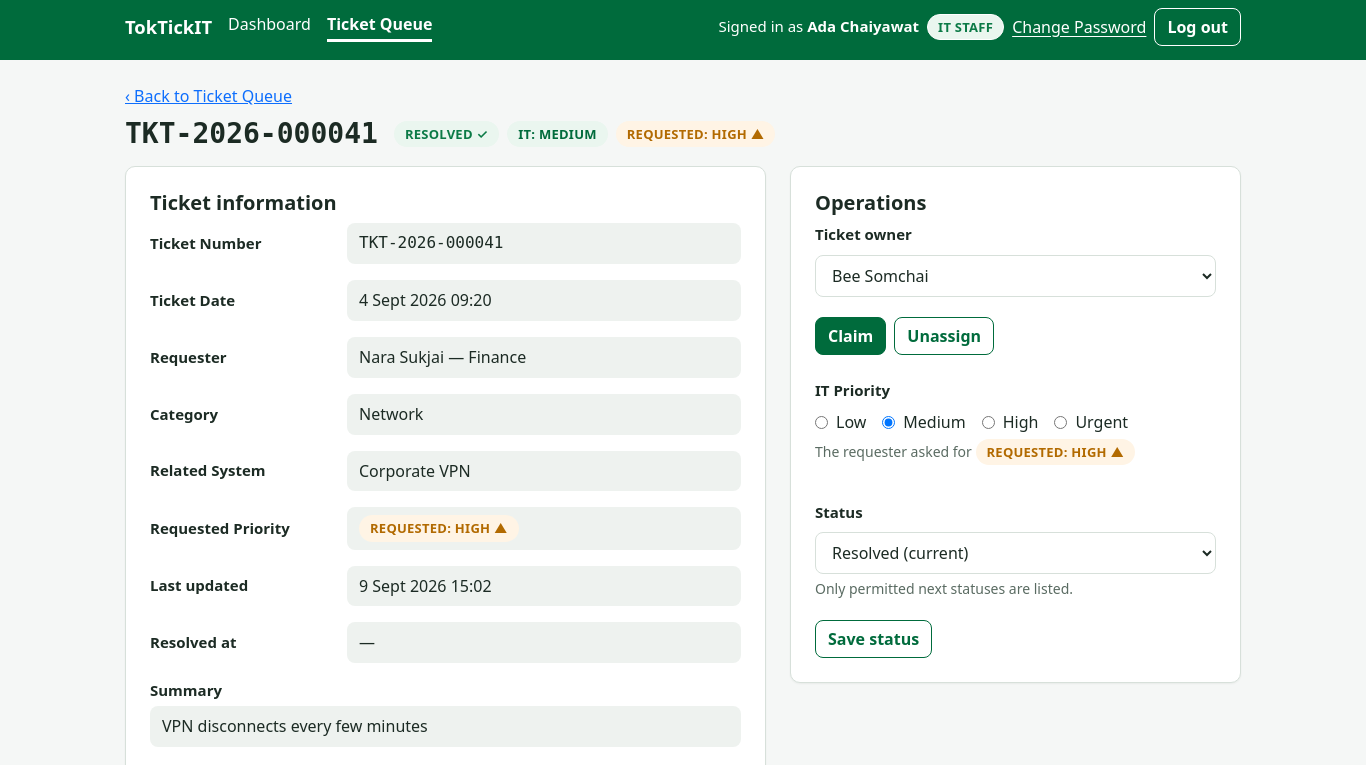
Test: UI-25 RESOLVED, CLOSED, and CANCELLED require confirmation (AC-44, BR-37) › RESOLVED → CLOSED: the dialog names the Ticket and the status; cancelling sends nothing
Select "Closed" in the dropdown labelled "Status" at (1016, 553), box [815,532,1216,574]
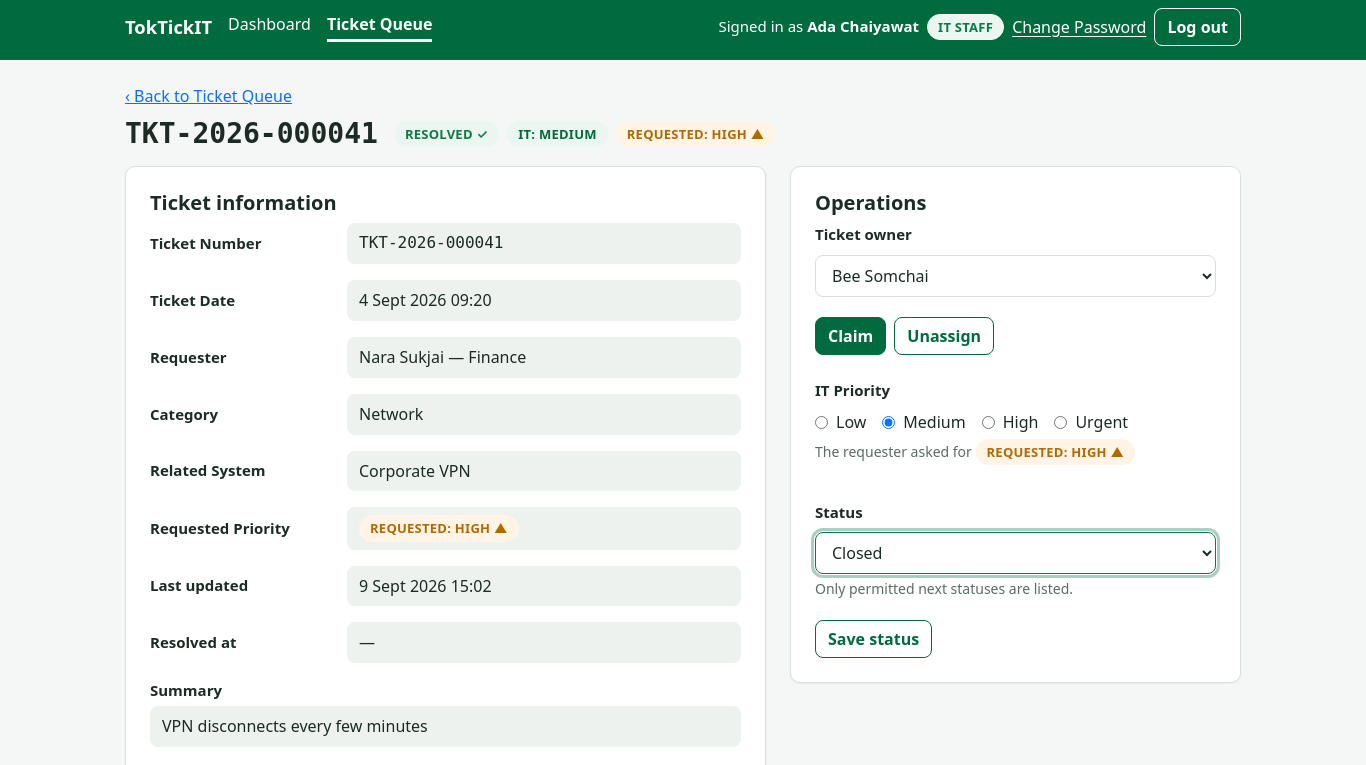
Click the button "Save status" at (874, 639), box [815,620,932,658]
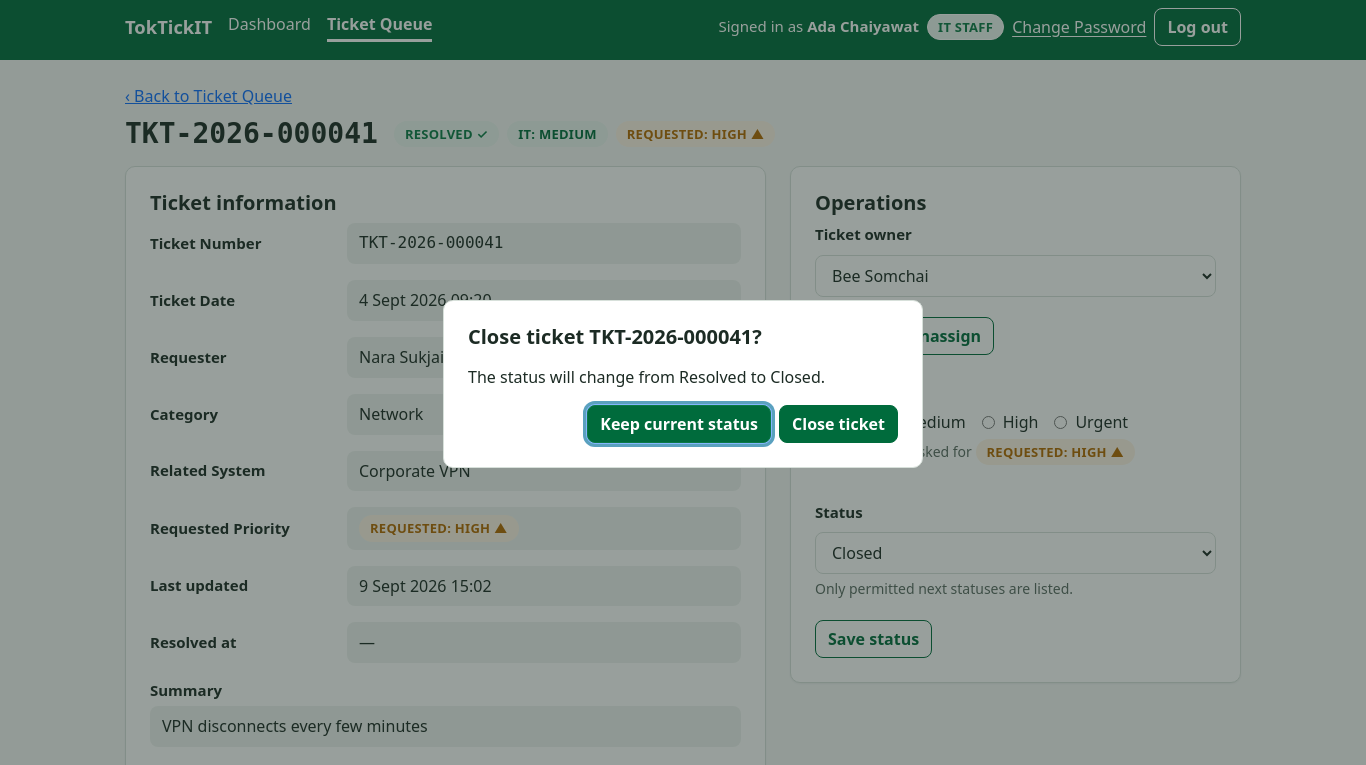
Expected: the dialog "Close ticket TKT-2026-000041?" shows "Closed", [770,366,821,388]
Click the button "Keep current status" at (679, 424), box [587,405,771,443]
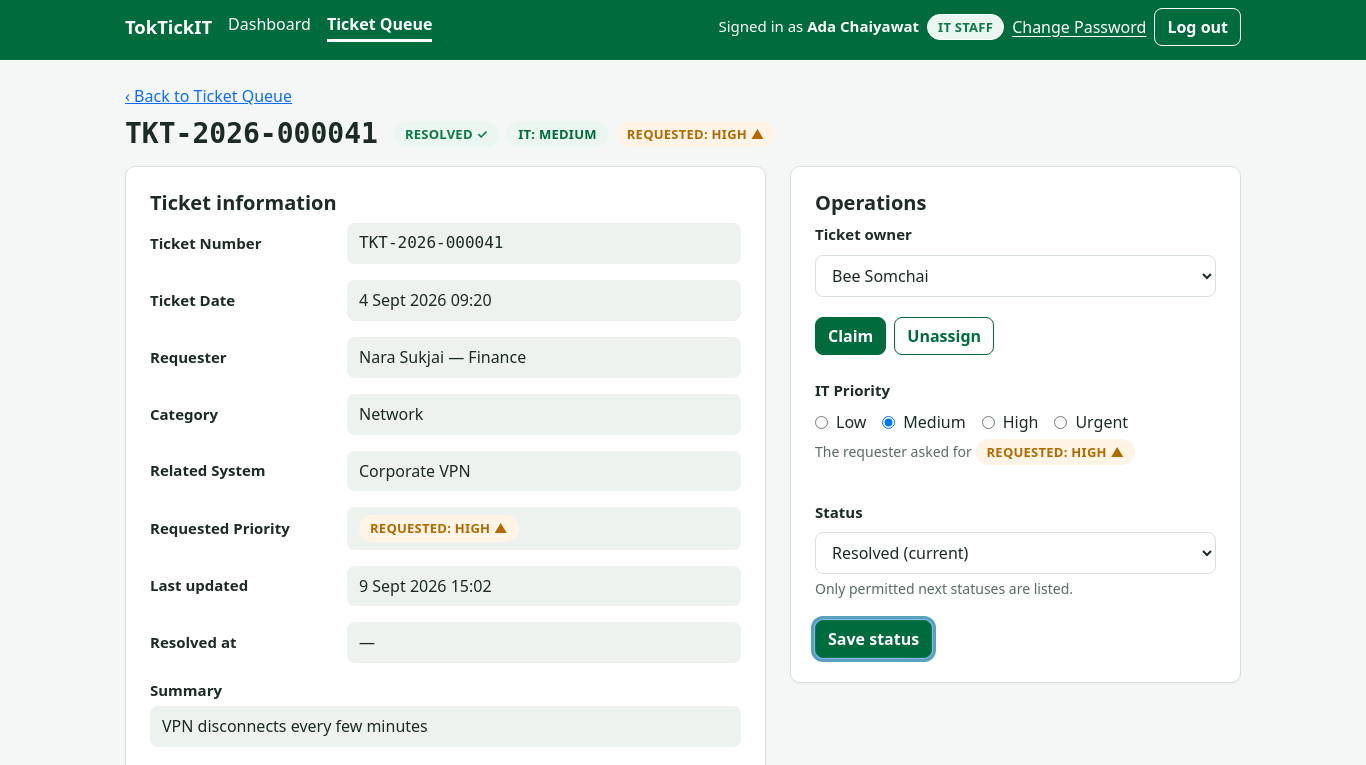
Expected: the button "Save status" is enabled, [815,620,932,658]
Expected: the dialog is gone
